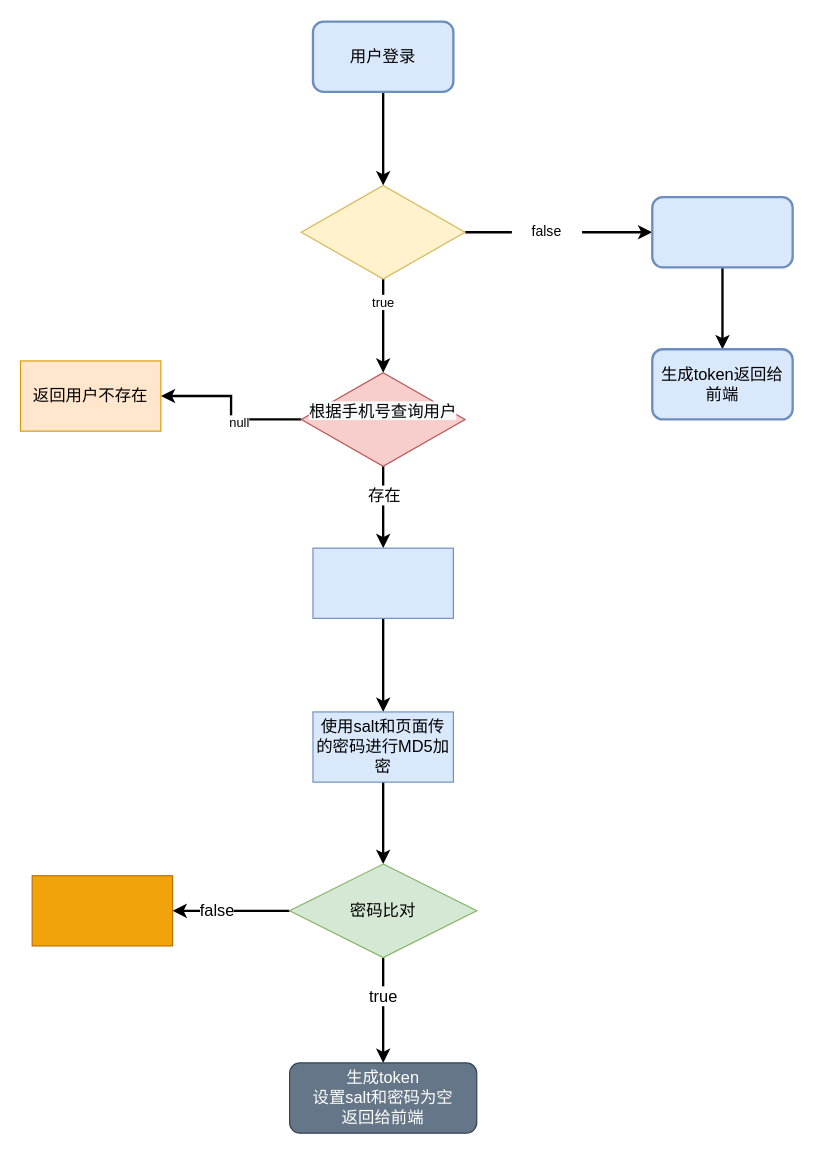
The diagram is 814 pixels wide and 1154 high, and some of its shapes have lost their labels. Each missing label, with the centre of its shape:
"从数据库获取用户的salt 和密码" belongs at pixel 382 582.
"游客身份登录" belongs at pixel 722 231.
"返回密码不正确 （用户和密码）" belongs at pixel 102 910.
"验证手机号和密码" belongs at pixel 382 231.
